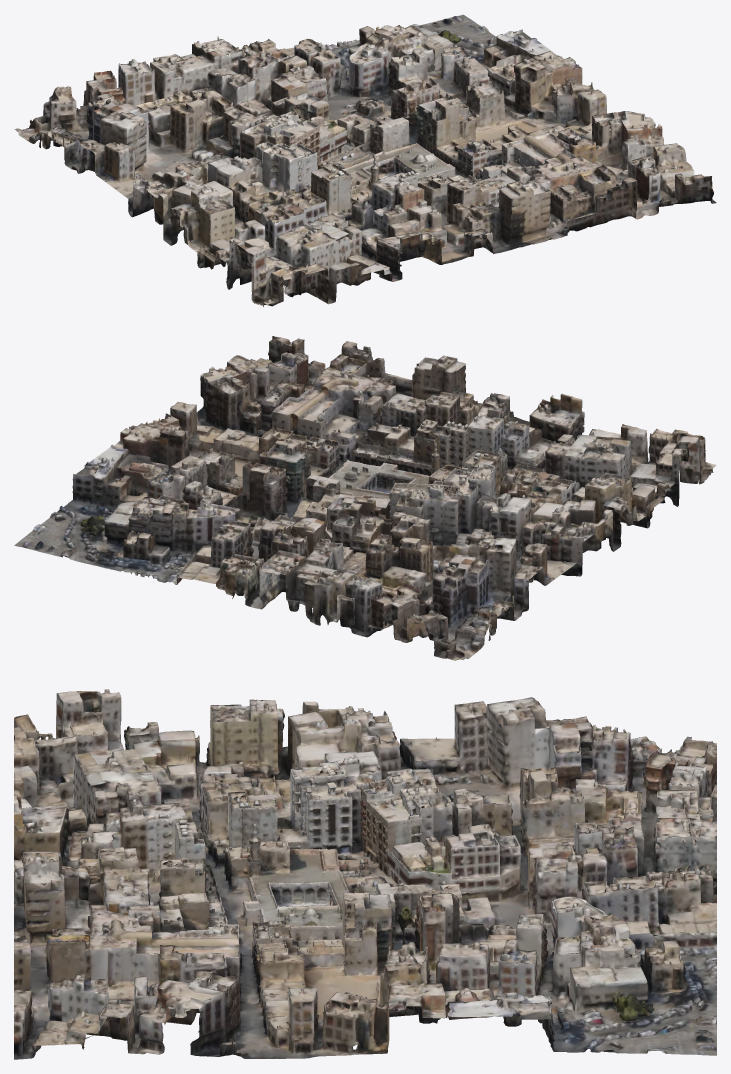
The picture shows the model from 3 angles, top to bottom: view 1: azimuth 30°, elevation 25°; view 2: azimuth 150°, elevation 25°; view 3: azimuth 270°, elevation 25°; orthographic projection. The views are drawn at different scales.
Parts seen in each view (by area): view 1: SAU_002_M4_S25; view 2: SAU_002_M4_S25; view 3: SAU_002_M4_S25.
Boxes of the visible parts, <box> form: SAU_002_M4_S25: <box>14,14,716,306</box>; SAU_002_M4_S25: <box>14,336,716,660</box>; SAU_002_M4_S25: <box>14,689,716,1059</box>.
Bounding box in the file's own units: 214 × 28.86 × 209.
1 material, 1 textured.
